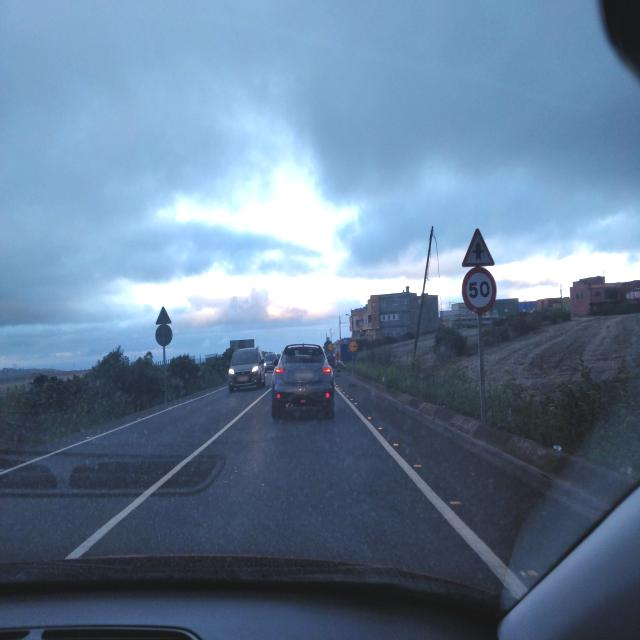car: (270, 341, 336, 421), (227, 348, 267, 393), (263, 353, 277, 373)
